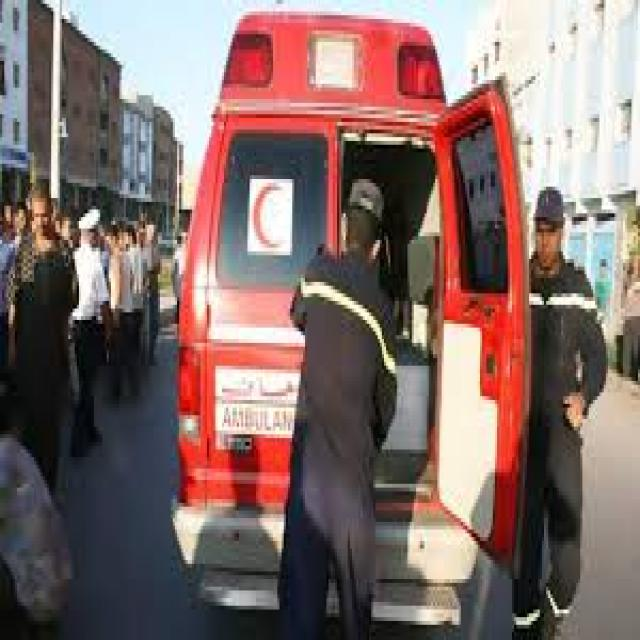ambulance: (179, 11, 528, 634)
